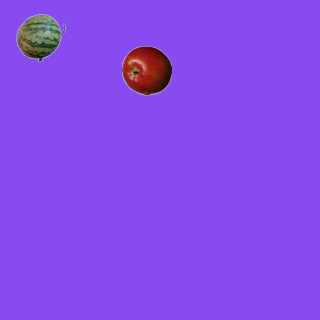Apple Braeburn: (121, 45, 171, 95)
Watermelon: (15, 12, 65, 62)
